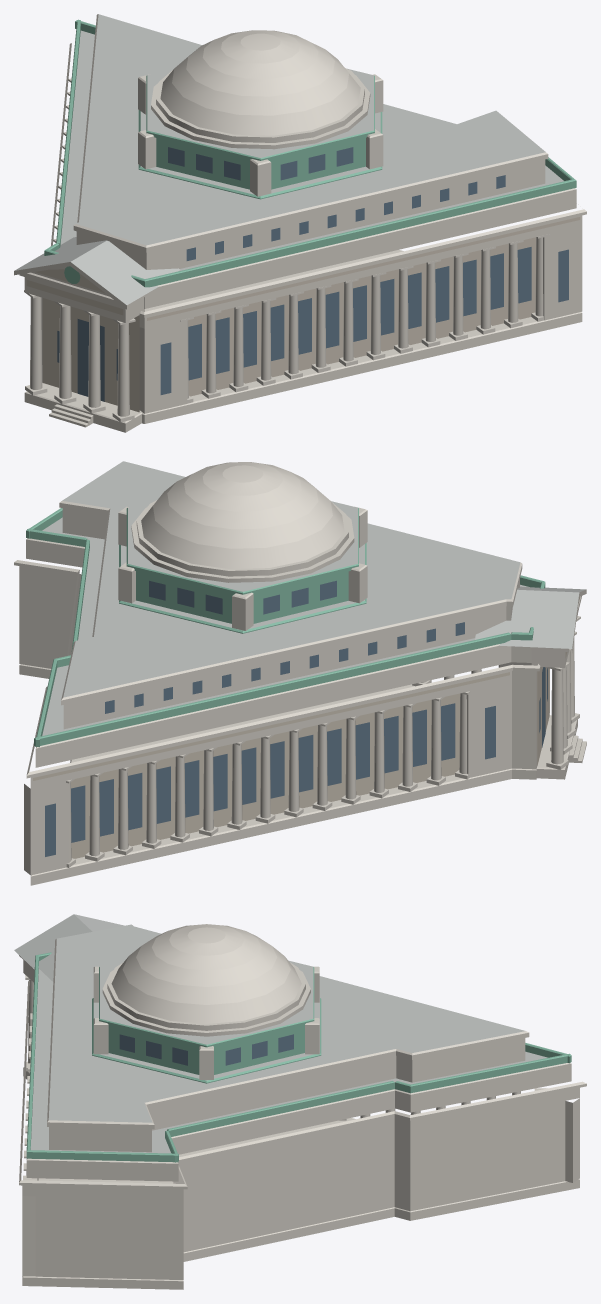
The model's file is nyc-dime-savings-bank.glb.
The picture shows the model from 3 angles, top to bottom: view 1: azimuth 30°, elevation 25°; view 2: azimuth 150°, elevation 25°; view 3: azimuth 270°, elevation 25°; orthographic projection. The views are drawn at different scales.
Visible parts, largest first — view 1: Dime Savings Bank of Brooklyn; view 2: Dime Savings Bank of Brooklyn; view 3: Dime Savings Bank of Brooklyn.
Part boxes in pixels (x1,y1,x2,y2): Dime Savings Bank of Brooklyn: (14,14,586,432); Dime Savings Bank of Brooklyn: (14,461,586,885); Dime Savings Bank of Brooklyn: (14,914,586,1289).
Size of the model in its own units: 69.04 by 33.5 by 69.83.
